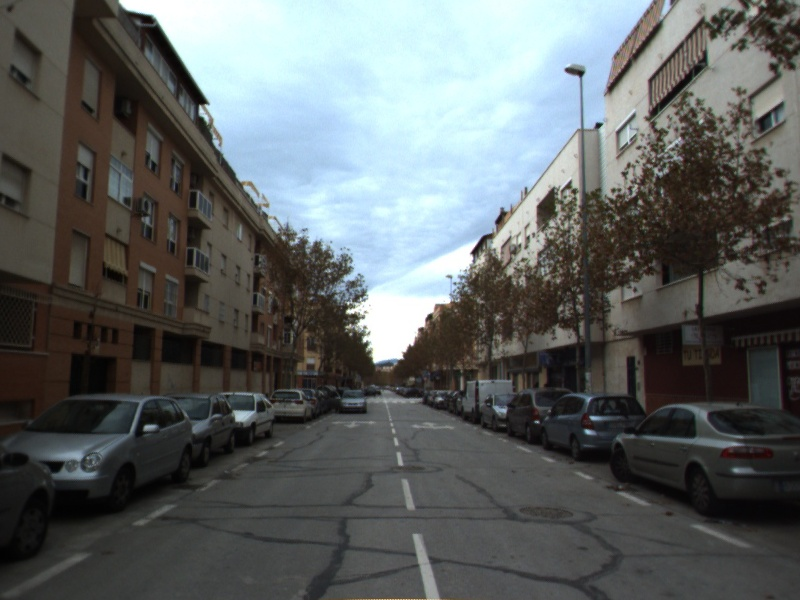STRAIGHT_LEFT_RIGHT: (408, 420, 457, 432)
